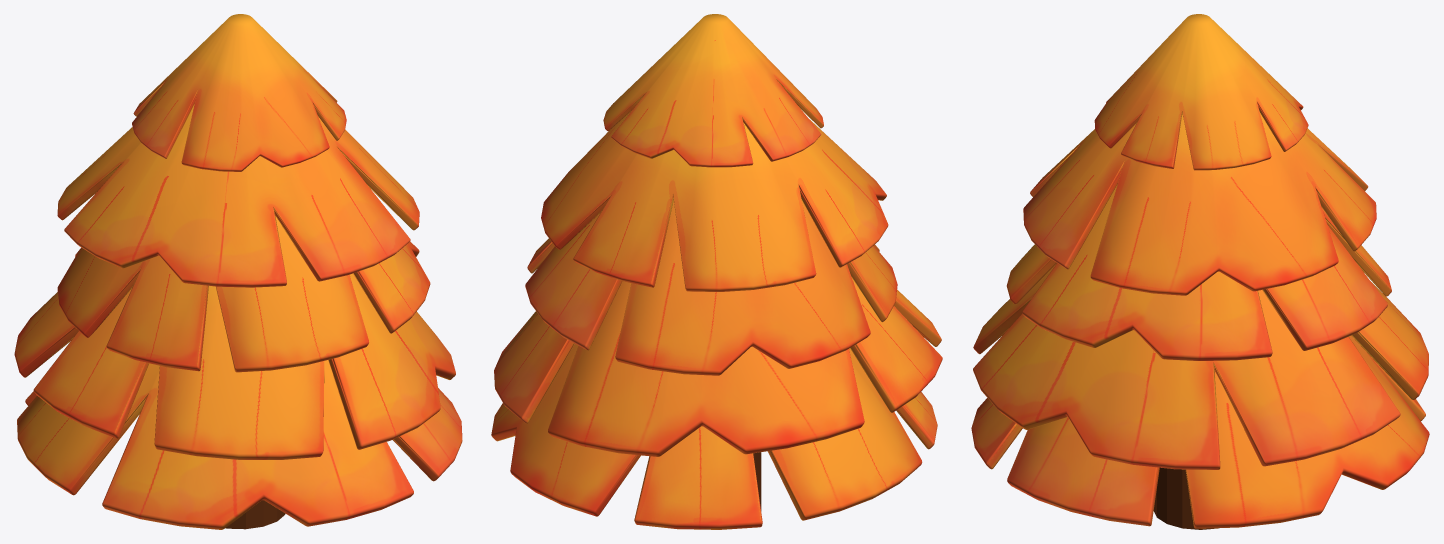
The model's file is arbre-1.glb.
3 renders of one model, left to right at view 1: azimuth 30°, elevation 25°; view 2: azimuth 150°, elevation 25°; view 3: azimuth 270°, elevation 25°, orthographic.
Visible parts, largest first — view 1: Cylinder.003, Cylinder.005, Cylinder.001, Cylinder.004, Cylinder.007, Cylinder.002; view 2: Cylinder.005, Cylinder.003, Cylinder.001, Cylinder.004, Cylinder.007; view 3: Cylinder.003, Cylinder.005, Cylinder.001, Cylinder.004, Cylinder.007, Cylinder.002.
Part boxes in pixels (x1,y1,x2,y2): Cylinder.003: (14,273,455,459); Cylinder.005: (57,104,419,287); Cylinder.001: (17,360,462,529); Cylinder.004: (57,216,430,372); Cylinder.007: (132,14,346,171); Cylinder.002: (225,500,285,529); Cylinder.005: (541,111,888,291); Cylinder.003: (494,277,942,456); Cylinder.001: (491,344,937,529); Cylinder.004: (525,200,897,375); Cylinder.007: (603,14,823,167); Cylinder.003: (973,266,1428,469); Cylinder.005: (1023,113,1376,295); Cylinder.001: (971,336,1429,528); Cylinder.004: (1006,185,1391,360); Cylinder.007: (1094,14,1308,170); Cylinder.002: (1153,467,1219,529).
Size of the model in its own units: 2.73 by 3.3 by 2.79.
2 materials, 1 textured.
